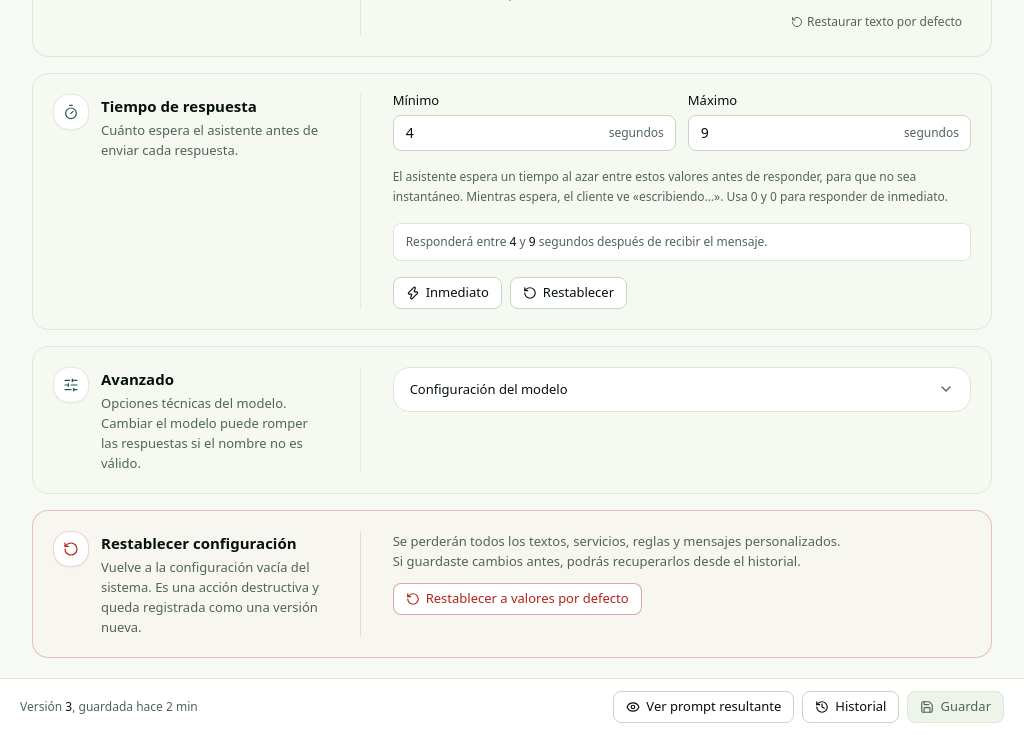
Test: AiSettingsPage › restaura una versión antigua sin tiempo de respuesta usando 4 y 9
The width and height of the screenshot is (1024, 735).
(page scrolled)
Step 1. Click the button "Historial" → {"x": 851, "y": 707}, box [802,691,900,723]
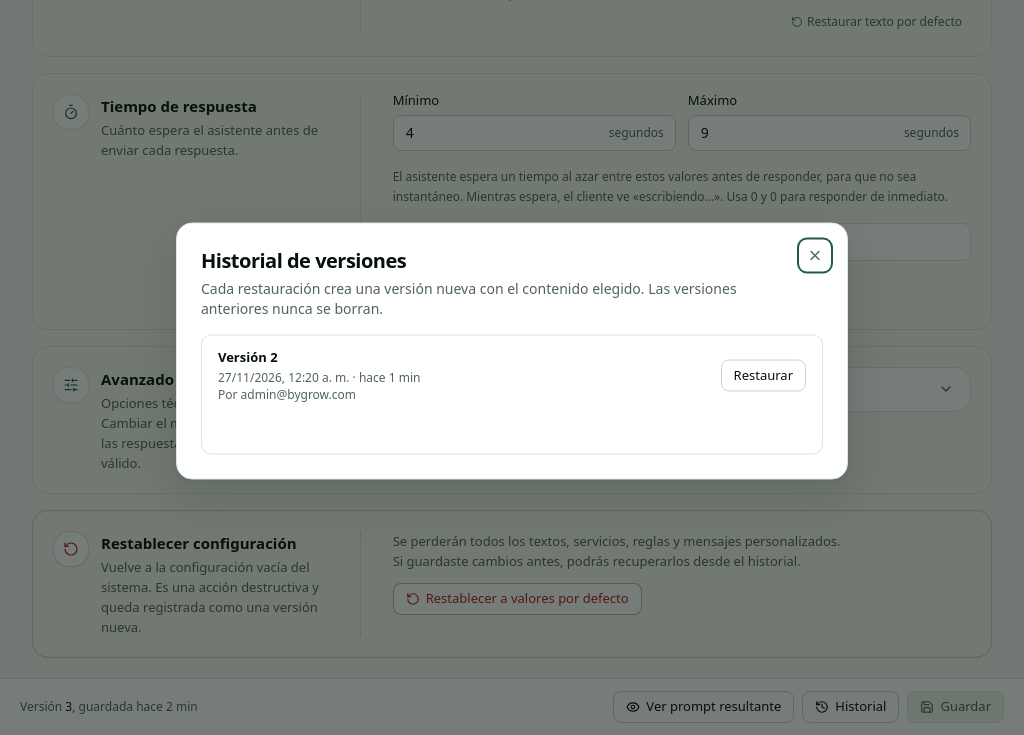
Step 2. Click the button "Restaurar" → {"x": 763, "y": 375}, box [721,359,806,391]
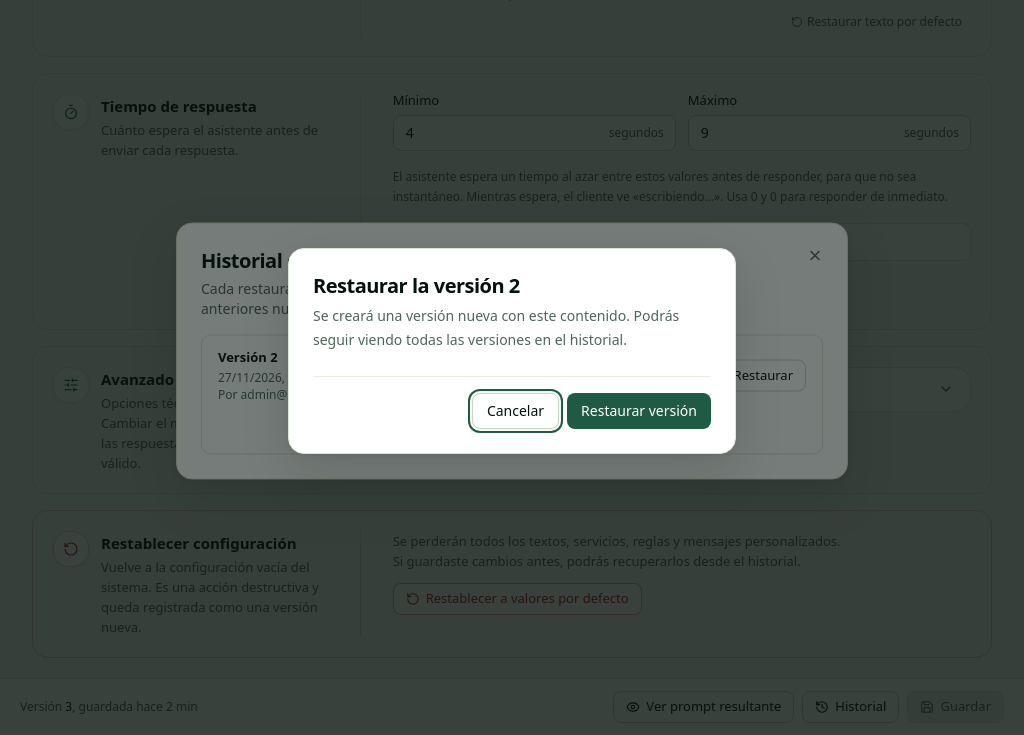
Step 3. Click the button "Restaurar versión" → {"x": 639, "y": 411}, box [567,393,711,429]
(page scrolled)
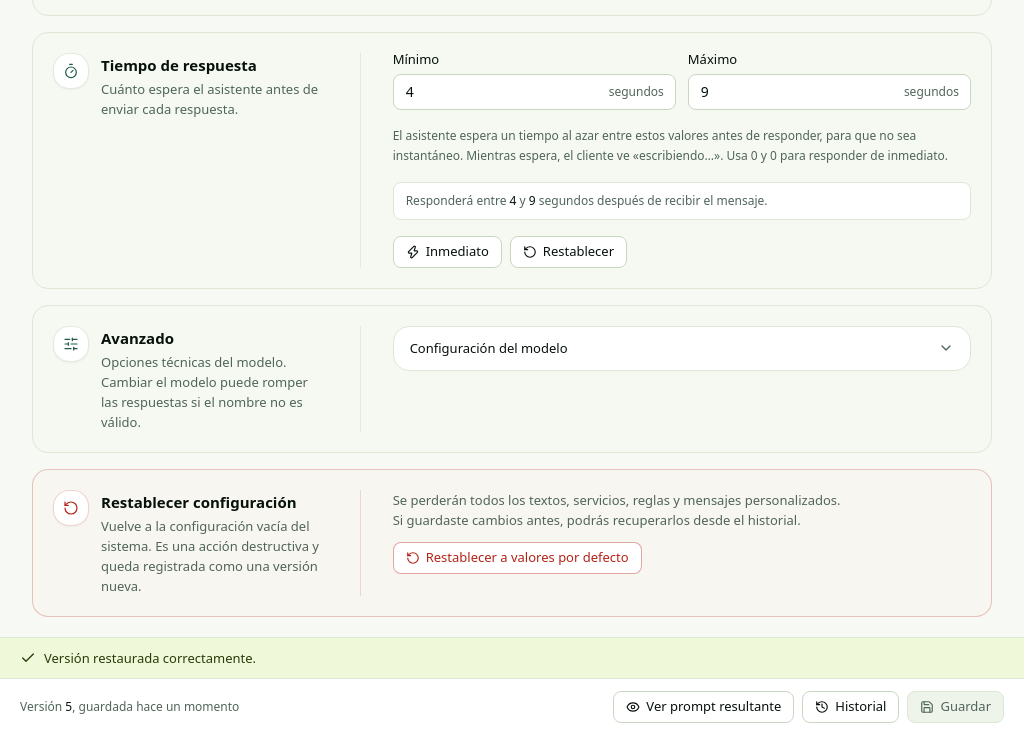
Expected: the number field labelled "Mínimo" holds "4", [393,74,676,110]
Expected: the text "Versión restaurada correctamente." is shown, [44,648,256,668]
